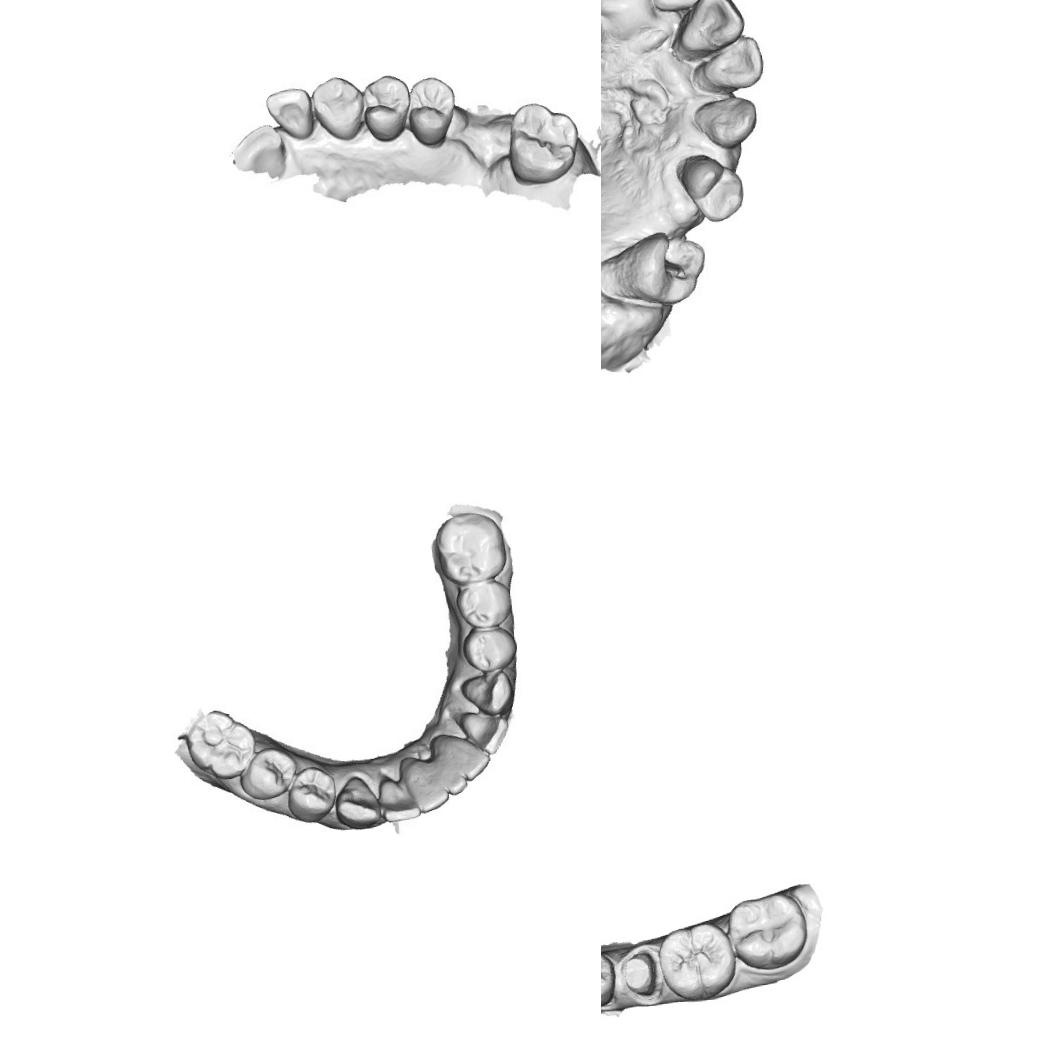canine: (310, 67, 370, 144), (688, 93, 761, 153), (332, 772, 382, 831), (459, 668, 515, 716)
crown: (616, 943, 662, 1002)
incisor: (696, 30, 768, 95), (672, 0, 748, 56), (259, 84, 315, 144), (430, 730, 492, 782), (398, 753, 448, 815), (459, 708, 510, 756), (376, 772, 422, 822), (444, 773, 468, 796)
molar: (607, 224, 711, 310), (723, 888, 808, 972), (656, 918, 740, 1003), (501, 96, 581, 185), (183, 705, 258, 782), (433, 508, 507, 585)
premolar: (674, 142, 748, 227), (401, 72, 460, 148), (358, 70, 414, 144), (236, 744, 299, 802), (284, 764, 337, 824), (454, 578, 512, 630), (460, 626, 518, 674), (601, 948, 618, 1008)
